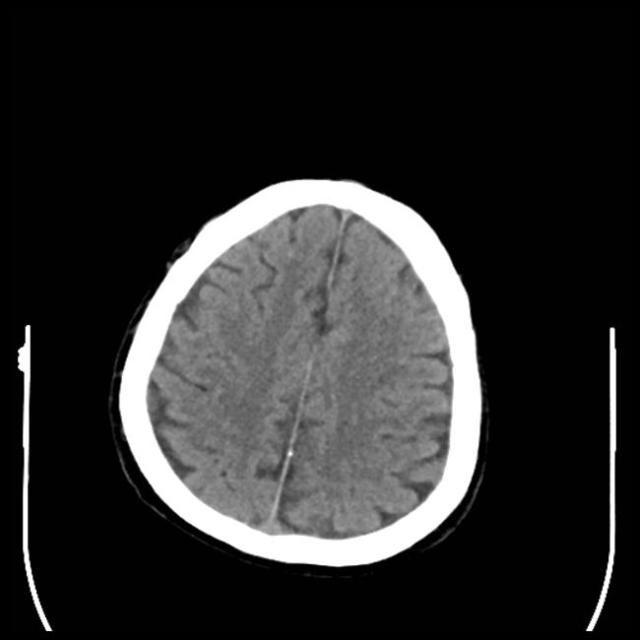lesion: (108, 172, 492, 574)
